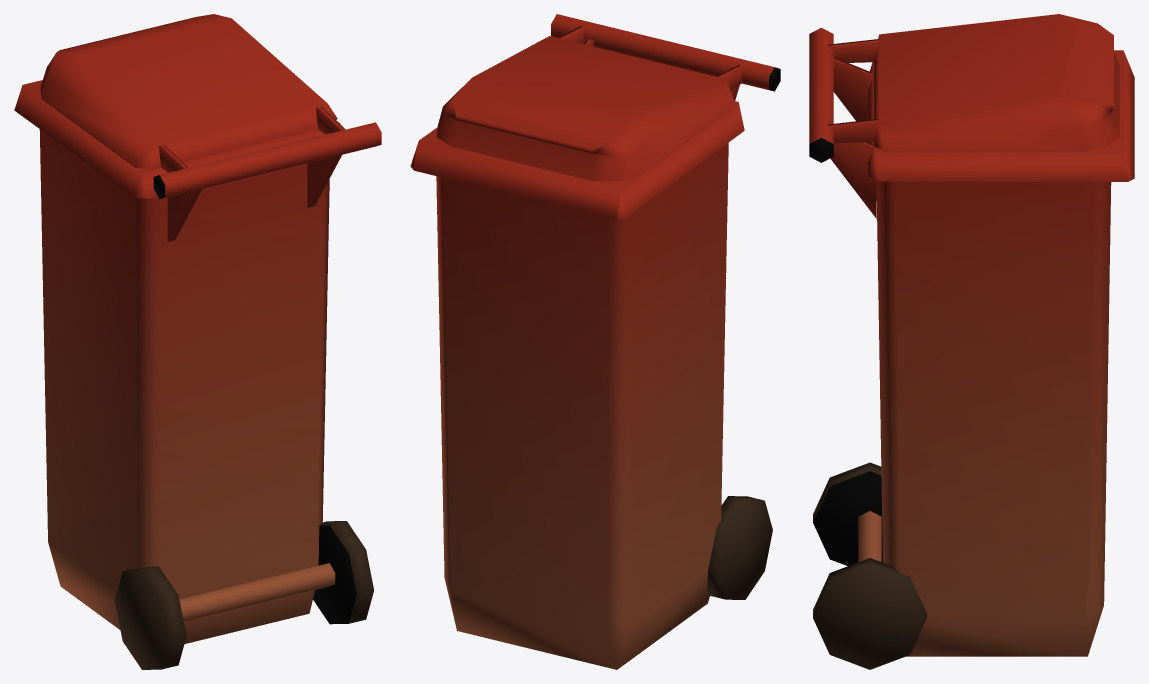
Rendered from SM_ER_WheelyBin.fbx.
The picture shows the model from 3 angles, left to right: view 1: azimuth 30°, elevation 25°; view 2: azimuth 150°, elevation 25°; view 3: azimuth 270°, elevation 25°; orthographic projection. The views are drawn at different scales.
Parts seen in each view (by area): view 1: SM_ER_WheelyBin; view 2: SM_ER_WheelyBin; view 3: SM_ER_WheelyBin.
Boxes of the visible parts, <box> form: SM_ER_WheelyBin: <box>14,14,381,669</box>; SM_ER_WheelyBin: <box>410,14,780,669</box>; SM_ER_WheelyBin: <box>809,14,1134,669</box>.
Size of the model in its own units: 147 by 351 by 183.
